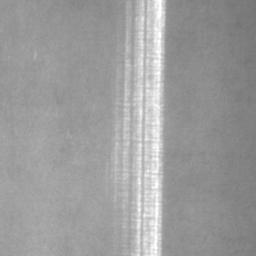Bright scratch: (122, 0, 165, 256)
